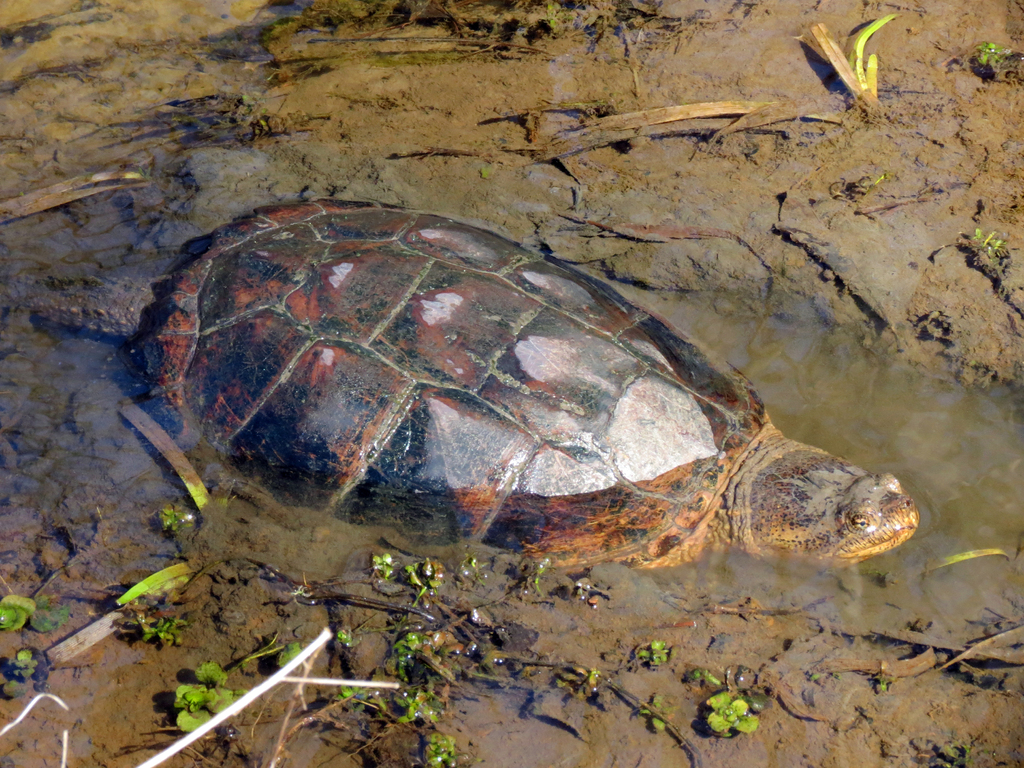Sea turtles: (0, 194, 922, 590)
